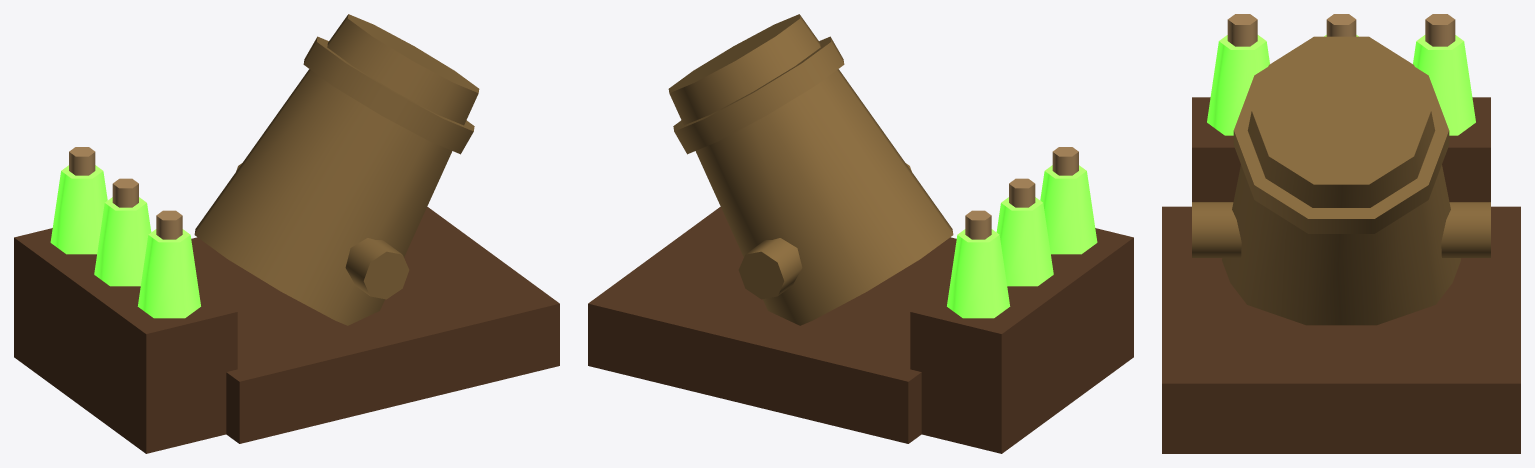
The model's file is mount-miasma.glb.
The picture shows the model from 3 angles, left to right: view 1: azimuth 30°, elevation 25°; view 2: azimuth 150°, elevation 25°; view 3: azimuth 270°, elevation 25°; orthographic projection. The views are drawn at different scales.
Visible parts, largest first — view 1: Mesh_Bed, Mesh_Barrel, Mesh_Rack, Mesh_BarrelBand, Mesh_Vial2, Mesh_Vial0, Mesh_Vial1, Mesh_Trunnion, Mesh_Cork2, Mesh_Cork1, Mesh_Cork0; view 2: Mesh_Bed, Mesh_Barrel, Mesh_Rack, Mesh_BarrelBand, Mesh_Vial0, Mesh_Vial2, Mesh_Vial1, Mesh_Trunnion, Mesh_Cork0, Mesh_Cork1, Mesh_Cork2; view 3: Mesh_Bed, Mesh_Barrel, Mesh_BarrelBand, Mesh_Rack, Mesh_Trunnion, Mesh_Vial0, Mesh_Vial2, Mesh_Cork0, Mesh_Cork2, Mesh_Cork1.
Part boxes in pixels (box(x1,y1,x2,y2)): Mesh_Bed: box(191, 207, 559, 443); Mesh_Barrel: box(194, 14, 479, 325); Mesh_Rack: box(14, 228, 237, 453); Mesh_BarrelBand: box(303, 36, 474, 154); Mesh_Vial2: box(137, 229, 200, 318); Mesh_Vial0: box(50, 165, 107, 254); Mesh_Vial1: box(94, 197, 151, 286); Mesh_Trunnion: box(236, 163, 409, 299); Mesh_Cork2: box(156, 210, 182, 239); Mesh_Cork1: box(112, 178, 138, 207); Mesh_Cork0: box(69, 147, 95, 175); Mesh_Bed: box(588, 207, 956, 443); Mesh_Barrel: box(668, 14, 953, 325); Mesh_Rack: box(910, 228, 1133, 453); Mesh_BarrelBand: box(673, 36, 844, 154); Mesh_Vial0: box(947, 229, 1010, 318); Mesh_Vial2: box(1040, 165, 1097, 254); Mesh_Vial1: box(996, 197, 1053, 286); Mesh_Trunnion: box(738, 163, 911, 299); Mesh_Cork0: box(965, 210, 991, 239); Mesh_Cork1: box(1009, 178, 1035, 207); Mesh_Cork2: box(1052, 147, 1078, 175); Mesh_Bed: box(1162, 206, 1520, 453); Mesh_Barrel: box(1222, 36, 1460, 325); Mesh_BarrelBand: box(1233, 67, 1449, 233); Mesh_Rack: box(1192, 97, 1490, 201); Mesh_Trunnion: box(1192, 202, 1490, 257); Mesh_Vial0: box(1413, 35, 1475, 135); Mesh_Vial2: box(1207, 35, 1269, 135); Mesh_Cork0: box(1425, 14, 1455, 46); Mesh_Cork2: box(1227, 14, 1257, 46); Mesh_Cork1: box(1326, 14, 1356, 36).
Size of the model in its own units: 1.75 by 1.29 by 1.2.
